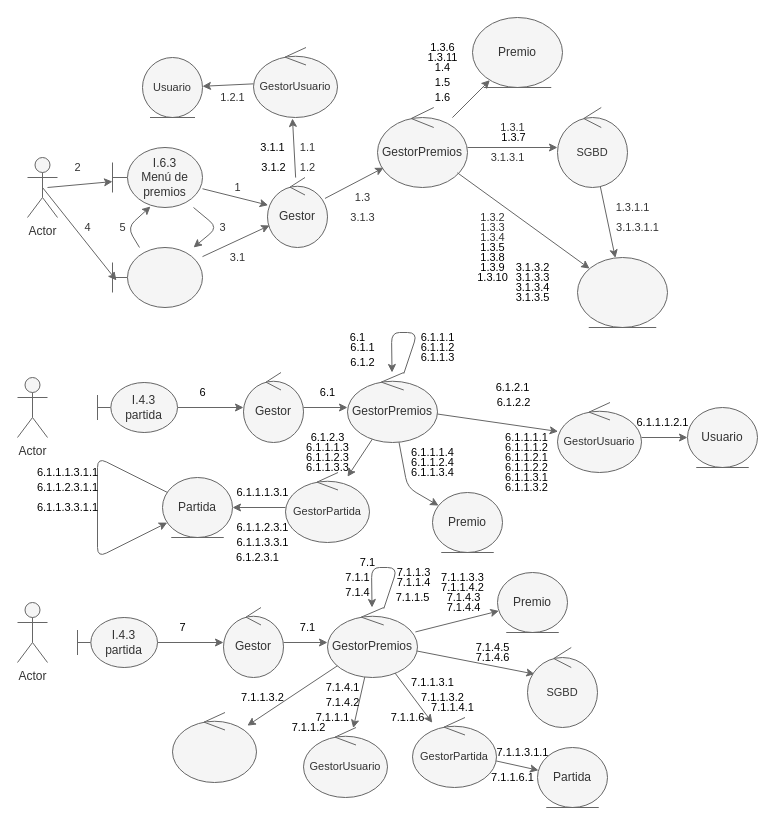
Some shapes in this 775 by 825 pixel diagram are drawn without their labels. Here are the shapes that lost their labels. From the top down, the box of each, then its label:
(112, 246, 202, 308): I.6.4 Descripción de premio
(576, 256, 668, 328): ResultadoSQL
(172, 712, 256, 782): GestorDificultad
